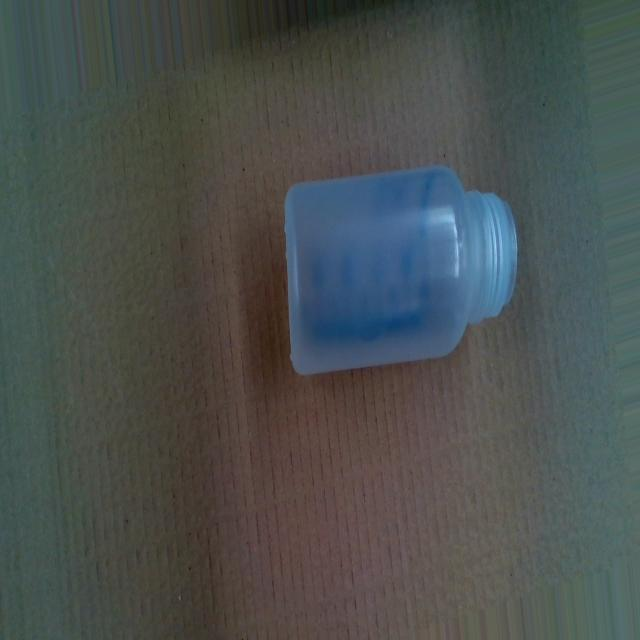bottle: (280, 164, 518, 382)
